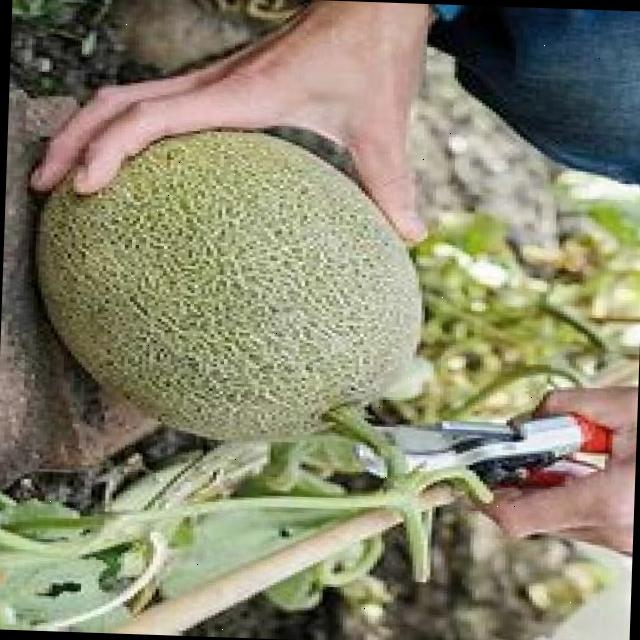Hami Melon: (26, 124, 428, 444)
